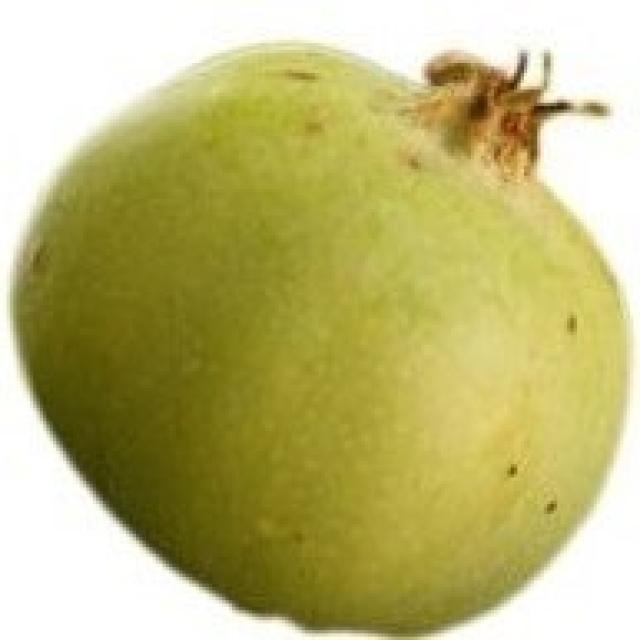50-_ripeness: (6, 32, 633, 630)
